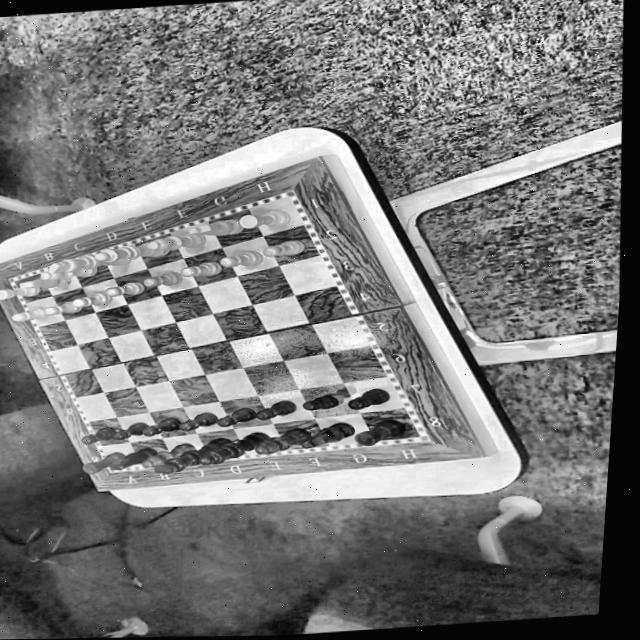chessboard: (15, 195, 416, 469)
